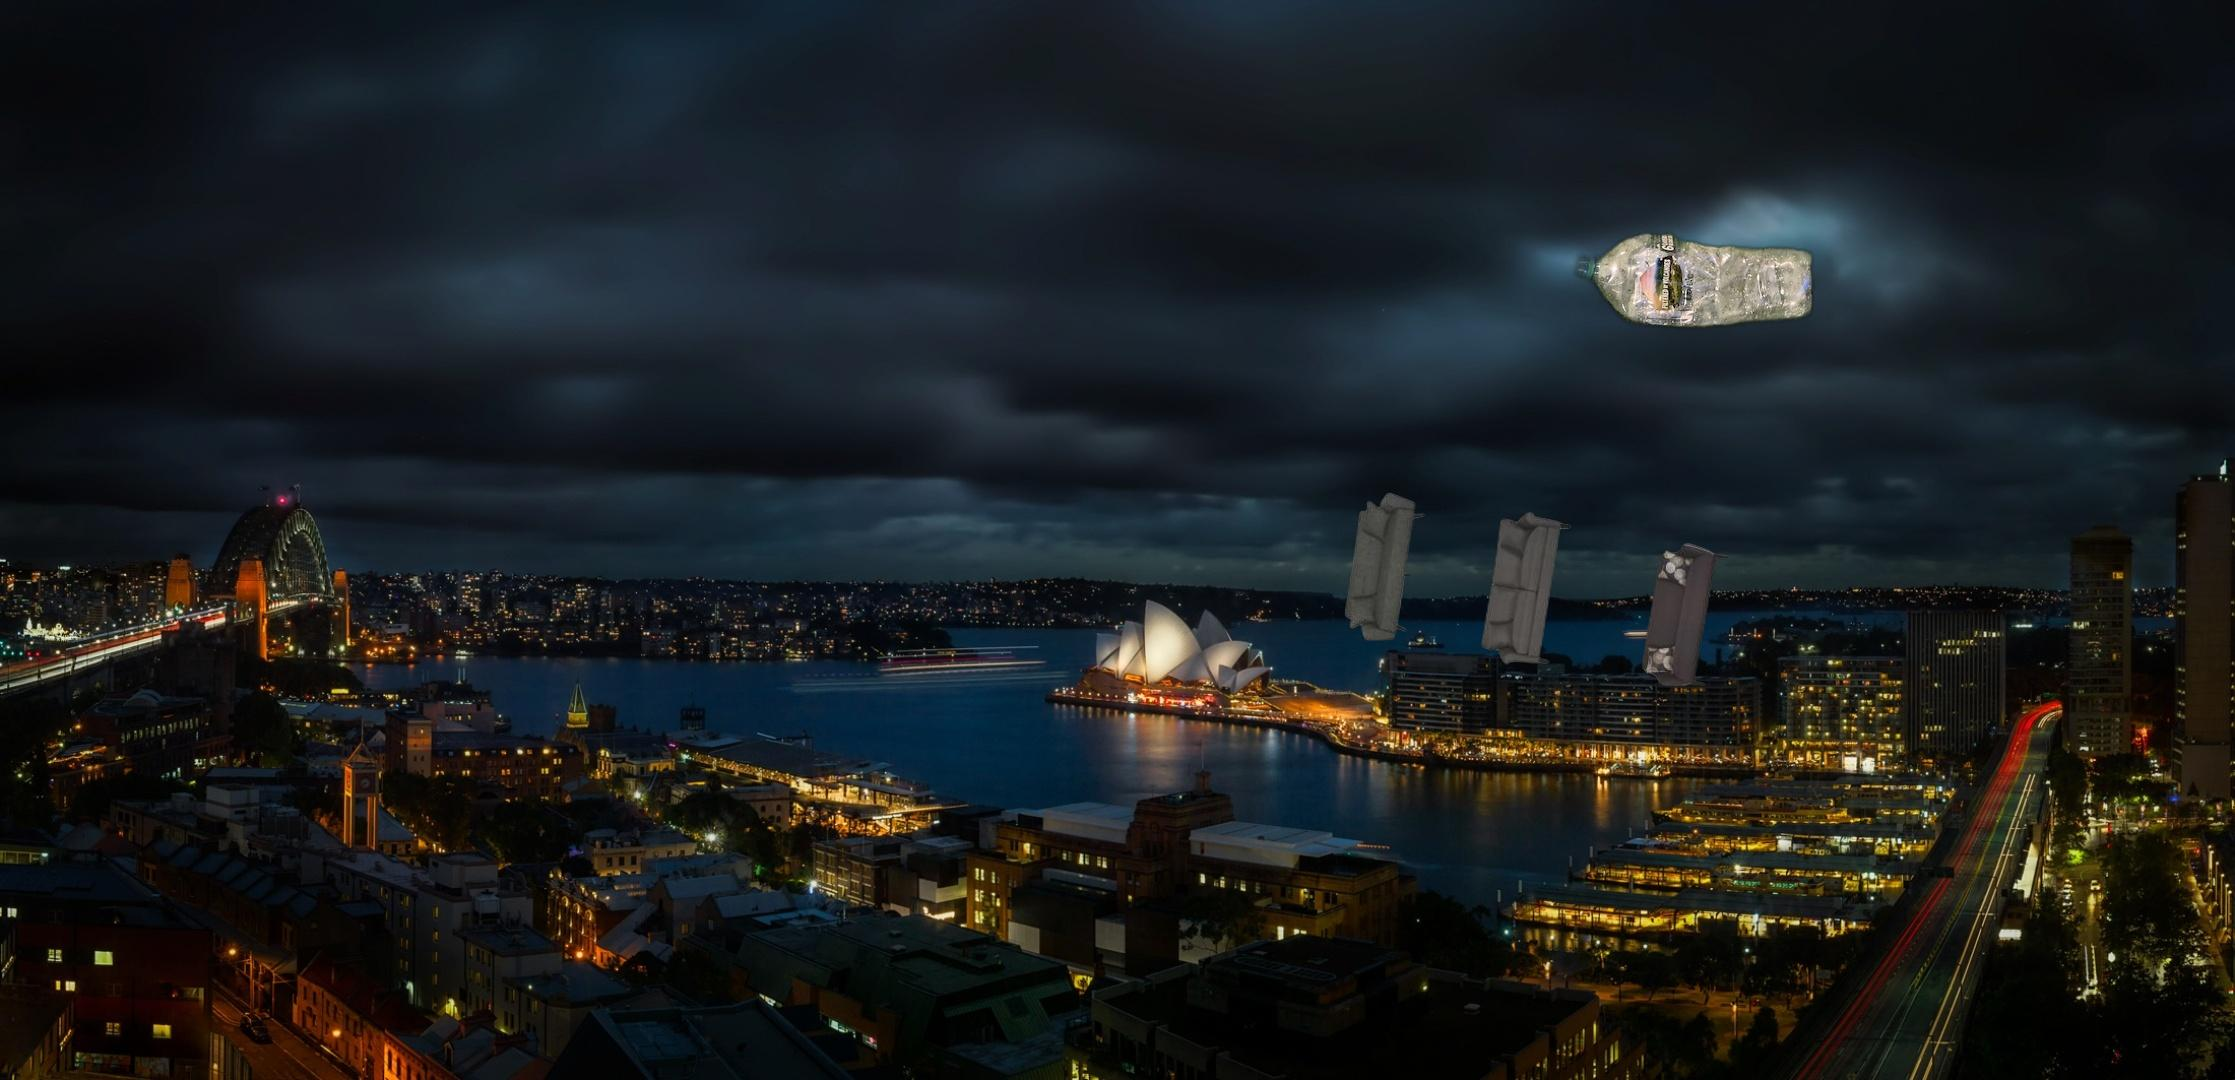paper: (1340, 489, 1733, 690)
plastic-bottles: (1569, 227, 1817, 338)
